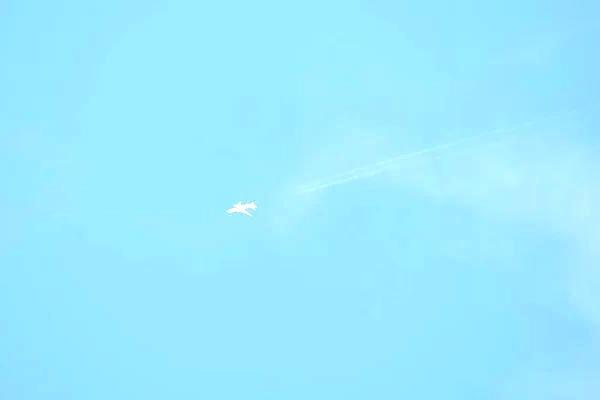Plane: (210, 194, 272, 224)
